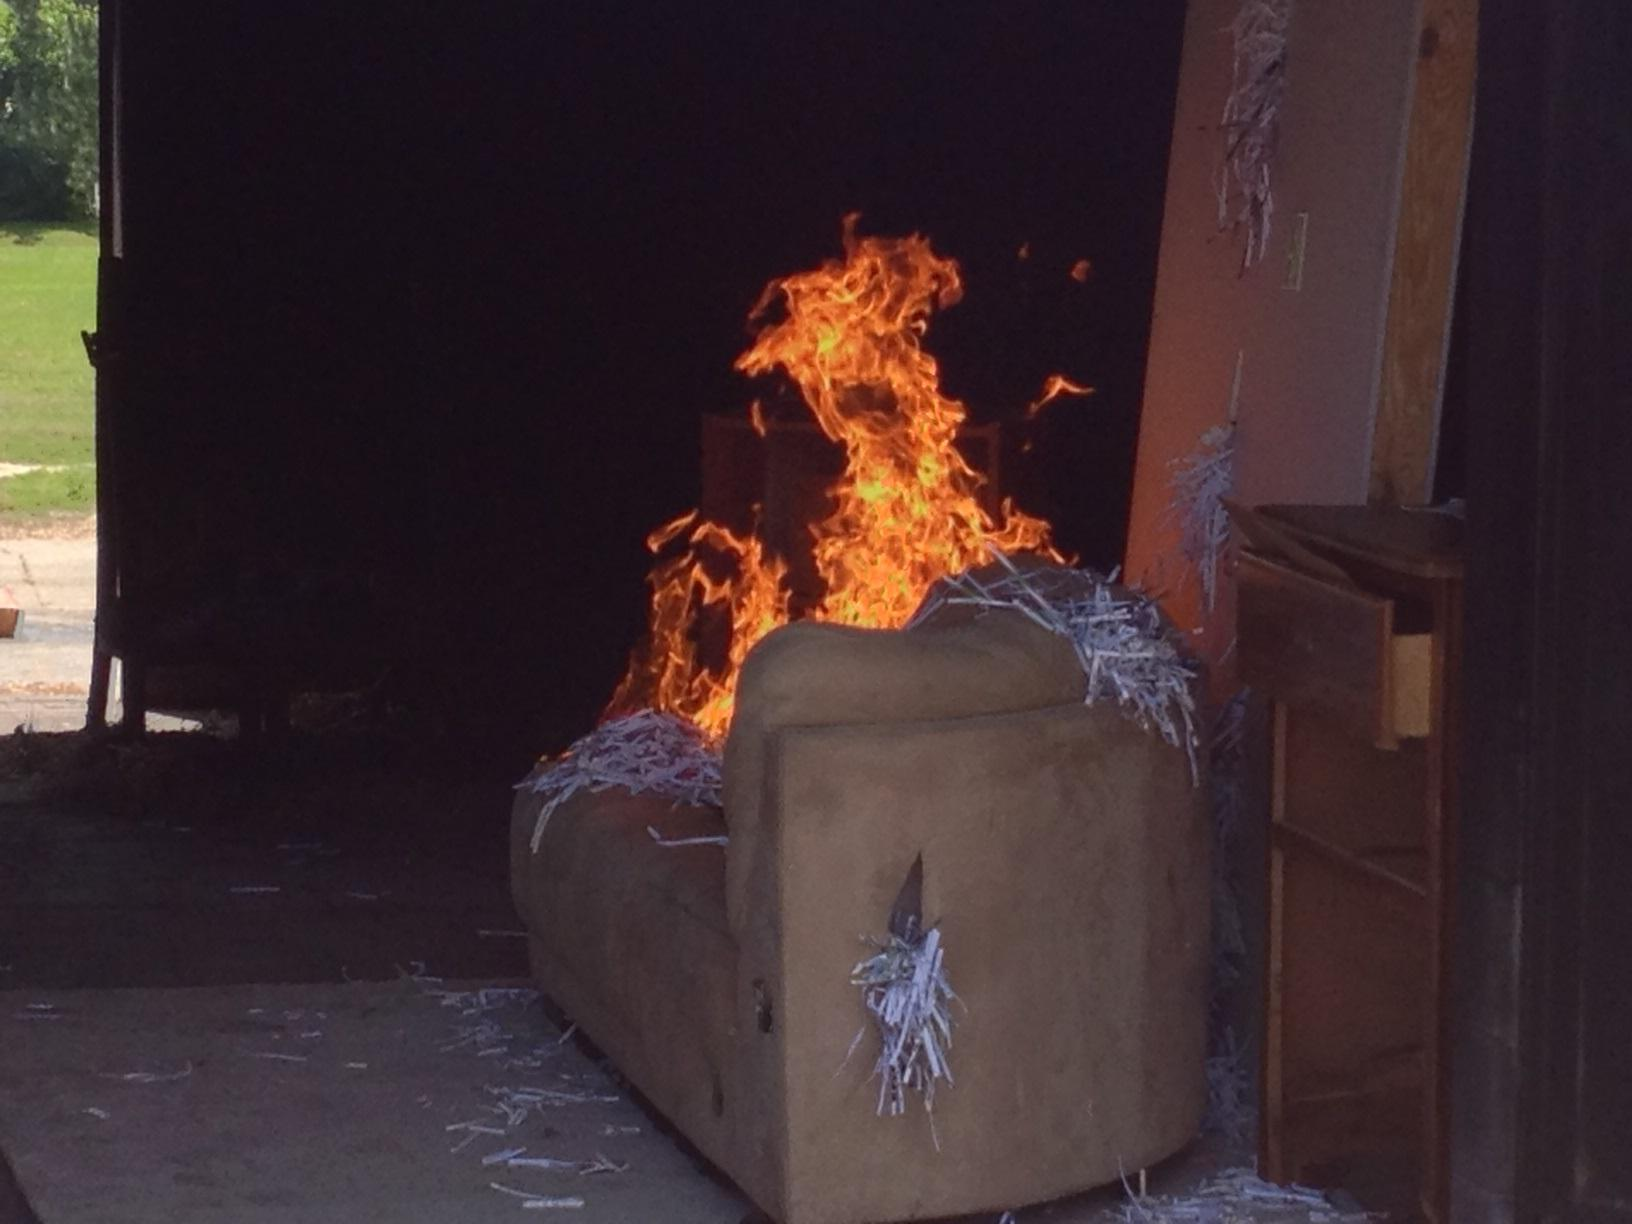fire: (598, 193, 1068, 764)
